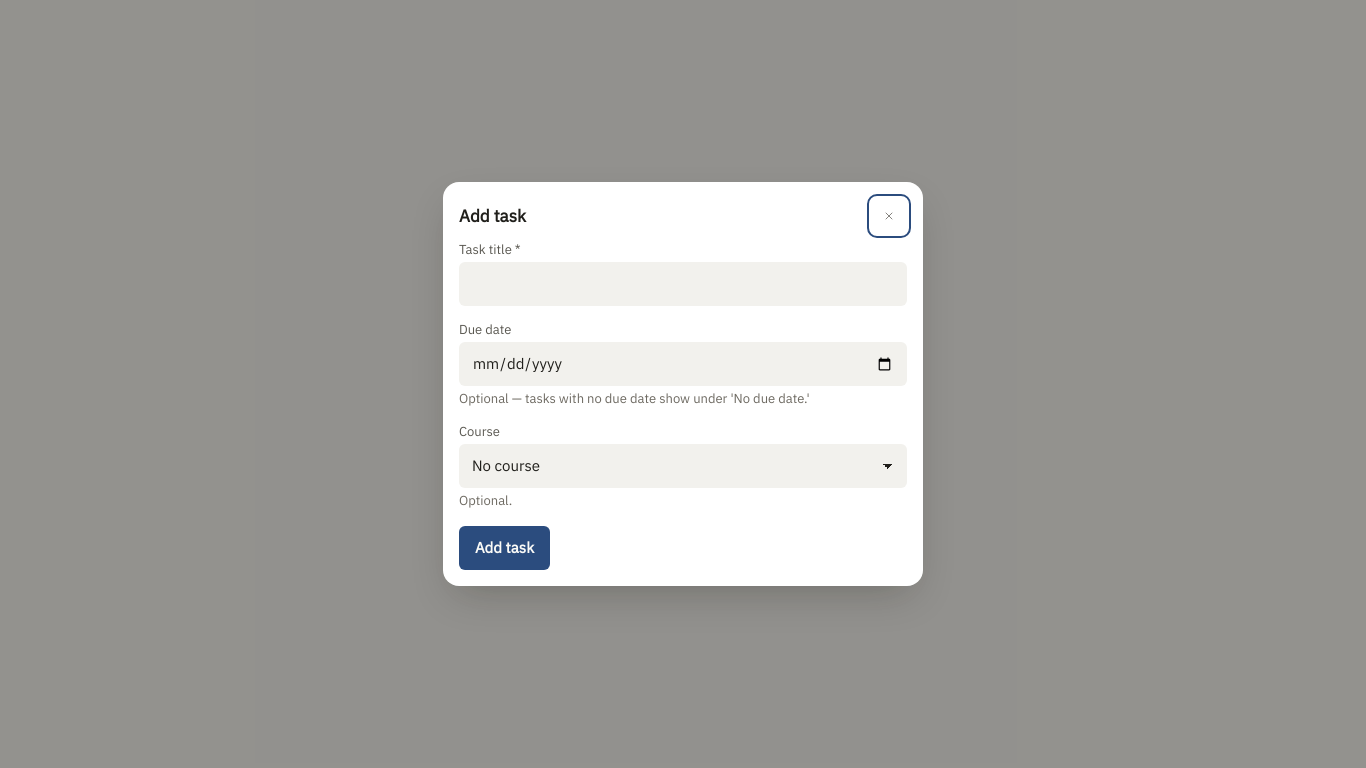
Test: TaskFormSheet › requires a title before submitting
Click the button "Add task": x=504, y=548 [459,526,550,570]
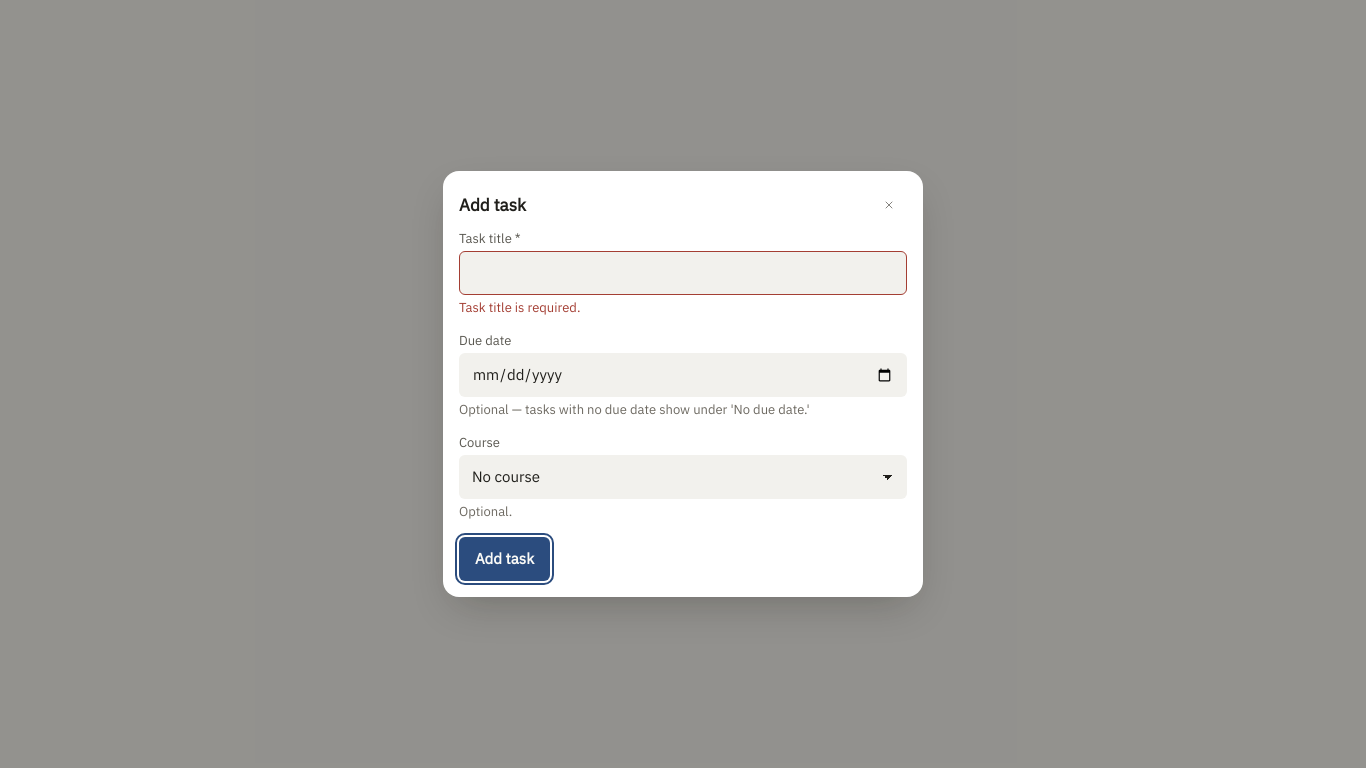
Check: the text "Task title is required." is shown, box [459,299,580,316]
